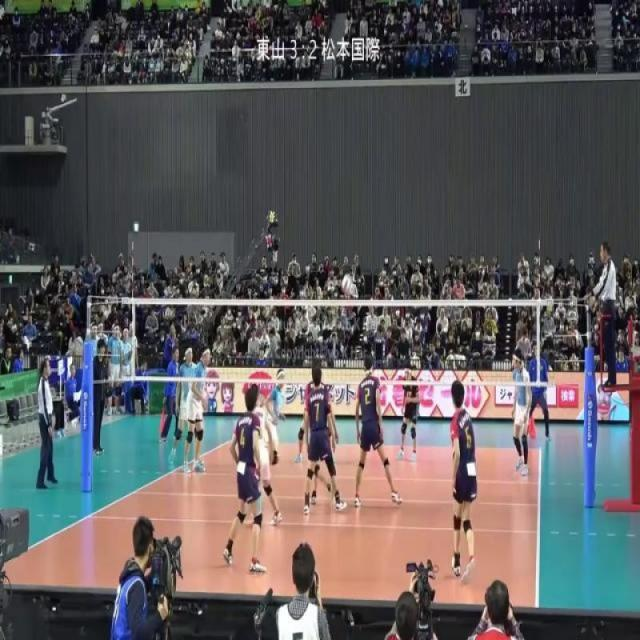volleyball: (341, 273, 353, 293)
